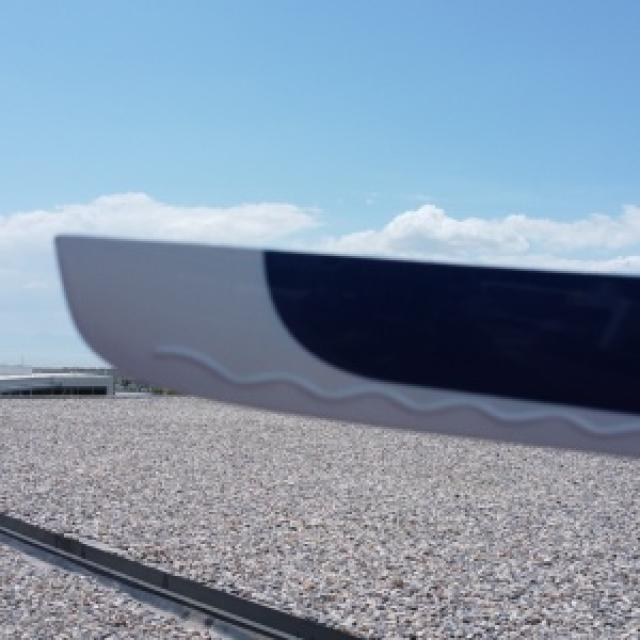healthy: (55, 235, 638, 452)
